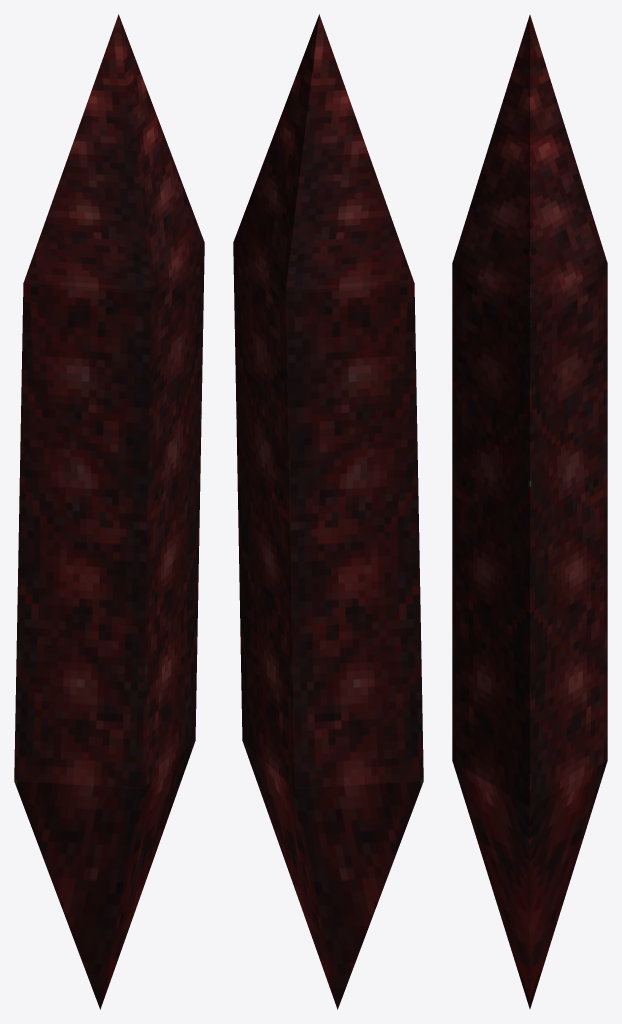
The model's file is WheatCones.fbx.
3 views of the same model, side by side, from view 1: azimuth 30°, elevation 25°; view 2: azimuth 150°, elevation 25°; view 3: azimuth 270°, elevation 25° (orthographic).
Visible parts, largest first — view 1: WheatConeAdult; view 2: WheatConeAdult; view 3: WheatConeAdult.
Part boxes in pixels (x1=…): WheatConeAdult: x1=14, y1=14, x2=204, y2=1009; WheatConeAdult: x1=233, y1=14, x2=423, y2=1009; WheatConeAdult: x1=452, y1=15, x2=607, y2=1008.
Bounding box in the file's own units: 0.9152 × 4.55 × 0.6367.
